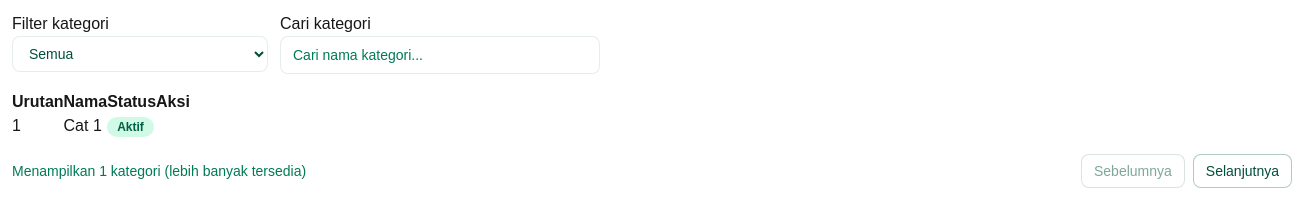
CategoryTable DOM › Previous works on empty later page if history exists
The image size is (1304, 205).
Expected: the text "Cat 1" is shown, [64,114,107,138]
Expected: the button "Sebelumnya" is disabled, [1081,154,1185,188]
Click the button "Selanjutnya": {"x": 1242, "y": 171} [1193,154,1292,188]
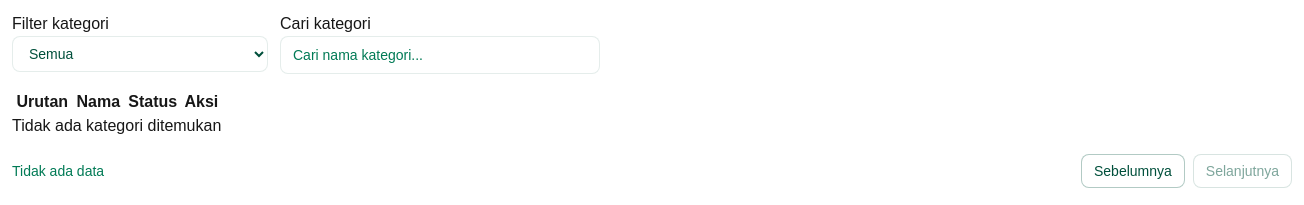
Now the text "Tidak ada kategori ditemukan" is shown, box [12,114,221,138]
Now the button "Selanjutnya" is disabled, box [1193,154,1292,188]
Now the button "Sebelumnya" is enabled
Click the button "Sebelumnya": {"x": 1133, "y": 171} [1081,154,1185,188]
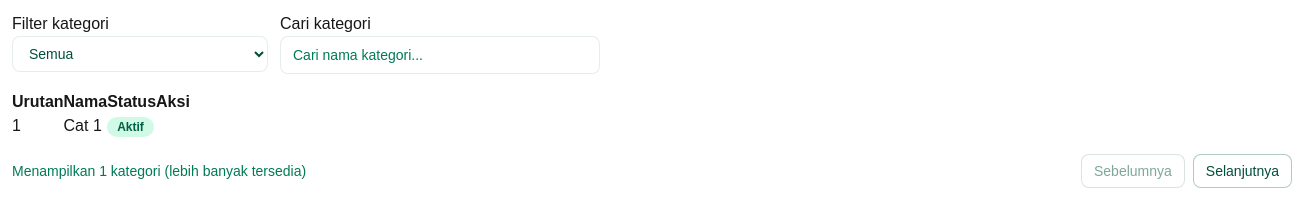
Now the text "Cat 1" is shown, box [64,114,107,138]
Now the button "Sebelumnya" is disabled, box [1081,154,1185,188]
